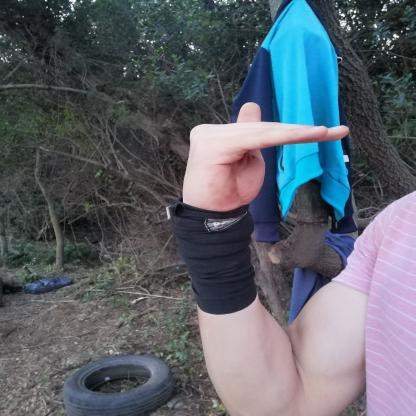KHAA: (163, 95, 363, 222)
